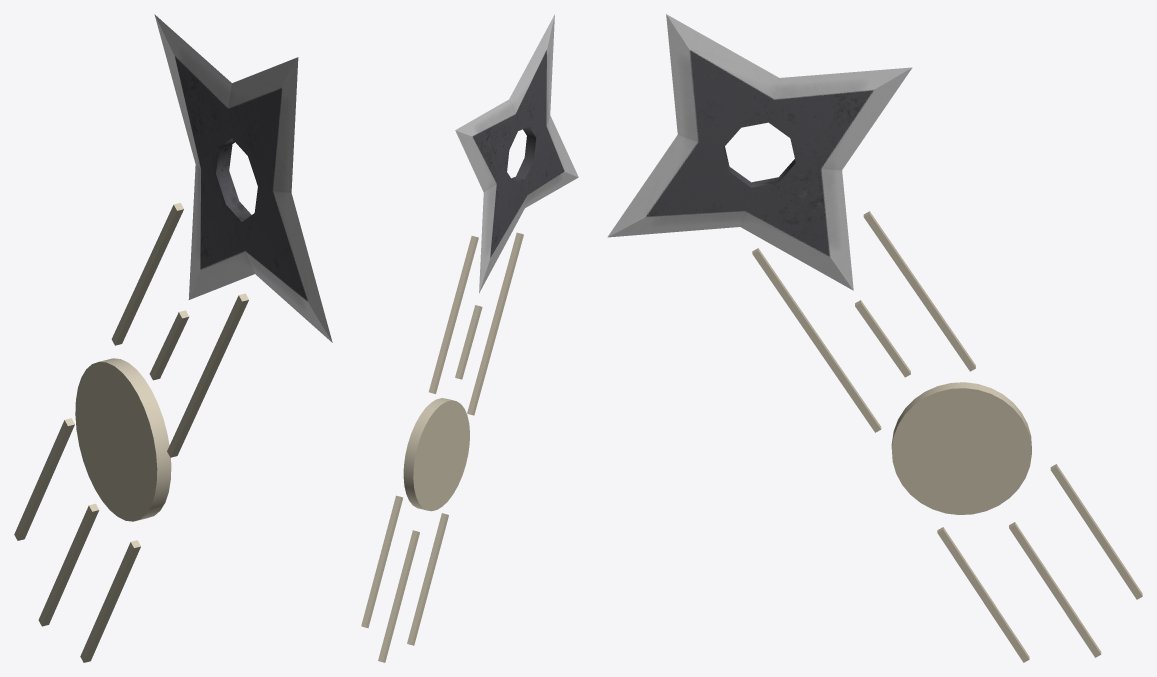
File: SM_Shuriken_Pierce.fbx
3 renders of one model, left to right at view 1: azimuth 30°, elevation 25°; view 2: azimuth 150°, elevation 25°; view 3: azimuth 270°, elevation 25°, orthographic. The views are drawn at different scales.
Parts seen in each view (by area): view 1: Shuriken_Pierce; view 2: Shuriken_Pierce; view 3: Shuriken_Pierce.
Part boxes in pixels (bbox=[...]): Shuriken_Pierce: bbox=[14, 14, 332, 662]; Shuriken_Pierce: bbox=[361, 14, 578, 662]; Shuriken_Pierce: bbox=[607, 14, 1142, 662].
Size of the model in its own units: 2.02 by 91.41 by 68.44.
